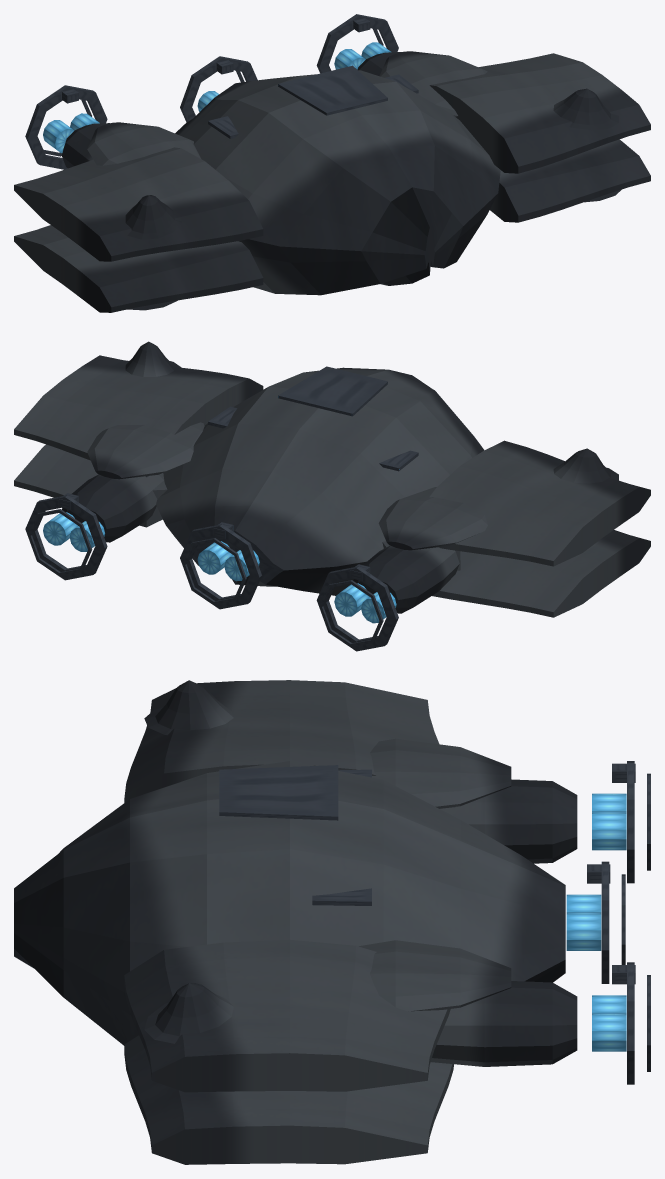
The model's file is spaceship_heavy_quad.obj.
The picture shows the model from 3 angles, top to bottom: view 1: azimuth 30°, elevation 25°; view 2: azimuth 150°, elevation 25°; view 3: azimuth 270°, elevation 25°; orthographic projection. The views are drawn at different scales.
Visible parts, largest first — view 1: spaceship_heavy_quad; view 2: spaceship_heavy_quad; view 3: spaceship_heavy_quad.
Part boxes in pixels (x1,y1,x2,y2): spaceship_heavy_quad: [14, 14, 650, 312]; spaceship_heavy_quad: [14, 341, 650, 651]; spaceship_heavy_quad: [14, 680, 650, 1164].
Size of the model in its own units: 6.4 by 2.04 by 4.62.
Materials: 1 (1 with a texture image).
